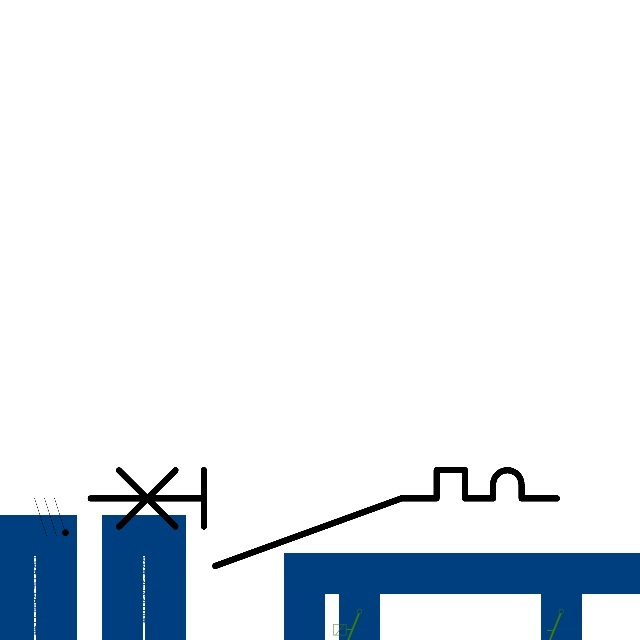interruptor_termomagnetico: (78, 458, 569, 578)
